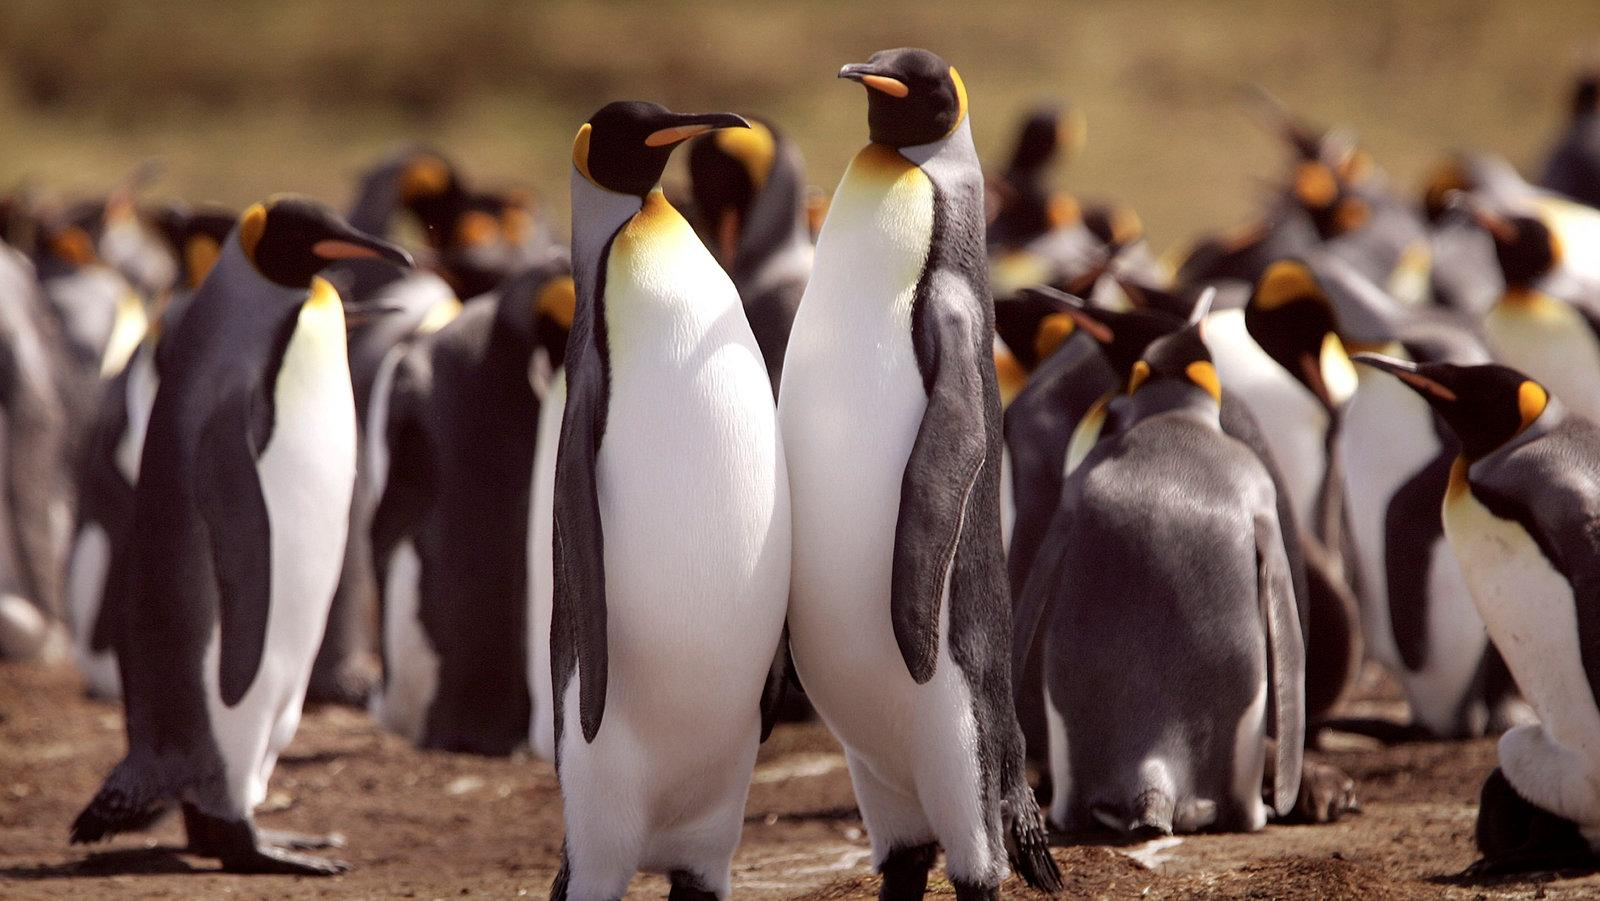king: (773, 29, 1041, 897), (529, 87, 791, 901)
